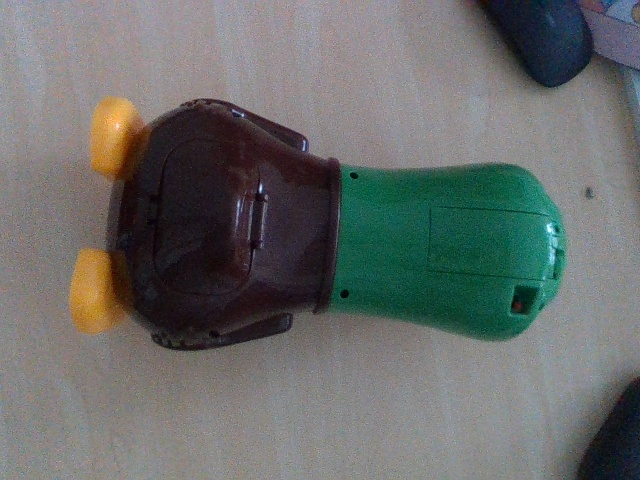screw hole: (209, 329, 219, 339), (351, 171, 359, 180), (340, 289, 348, 298)
toy: (67, 96, 569, 351)
